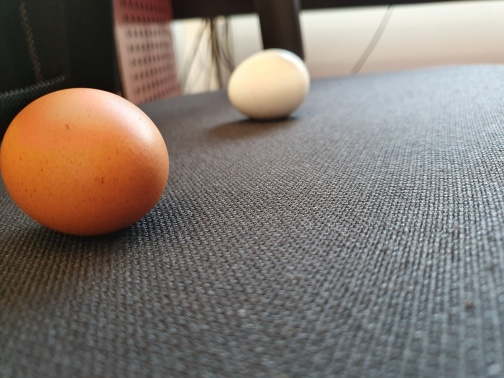egg: (1, 86, 171, 237), (228, 49, 310, 124)
